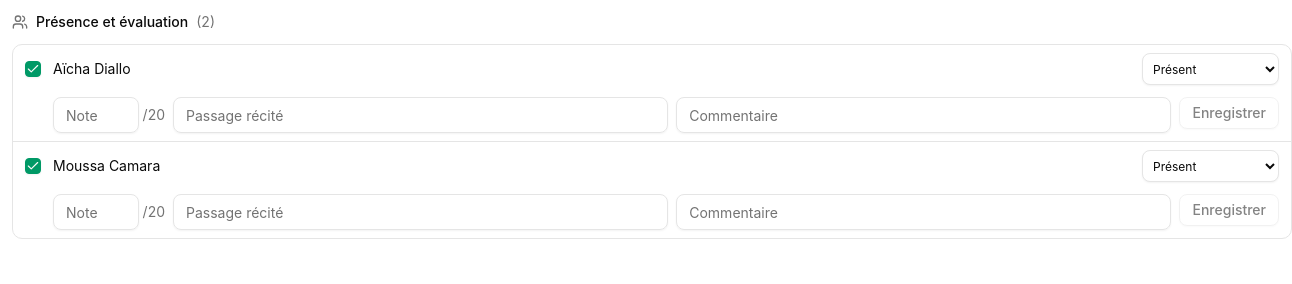
Test: SectionPresence — évaluation › refuse une note hors barème sans rien enregistrer
Type "25" into the field named "Note de Aïcha Diallo". click: point(96, 115)
box: [53,97,139,133]
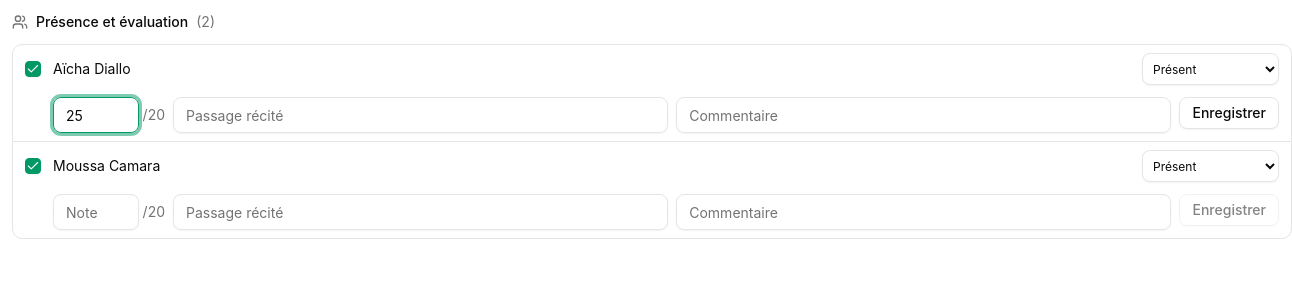
Click the 1st button "Enregistrer". click: point(1229, 113)
box: [1180,97,1279,129]
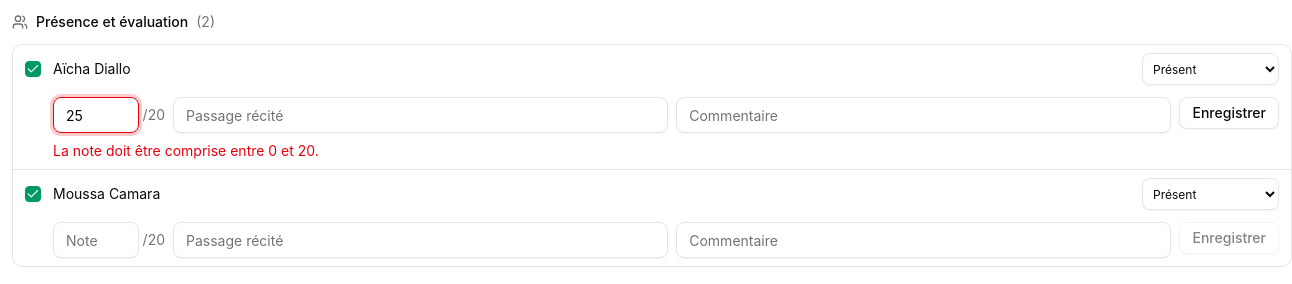
Check: the text "La note doit être comprise entre 0 et 20." is shown, box [53,142,319,159]
